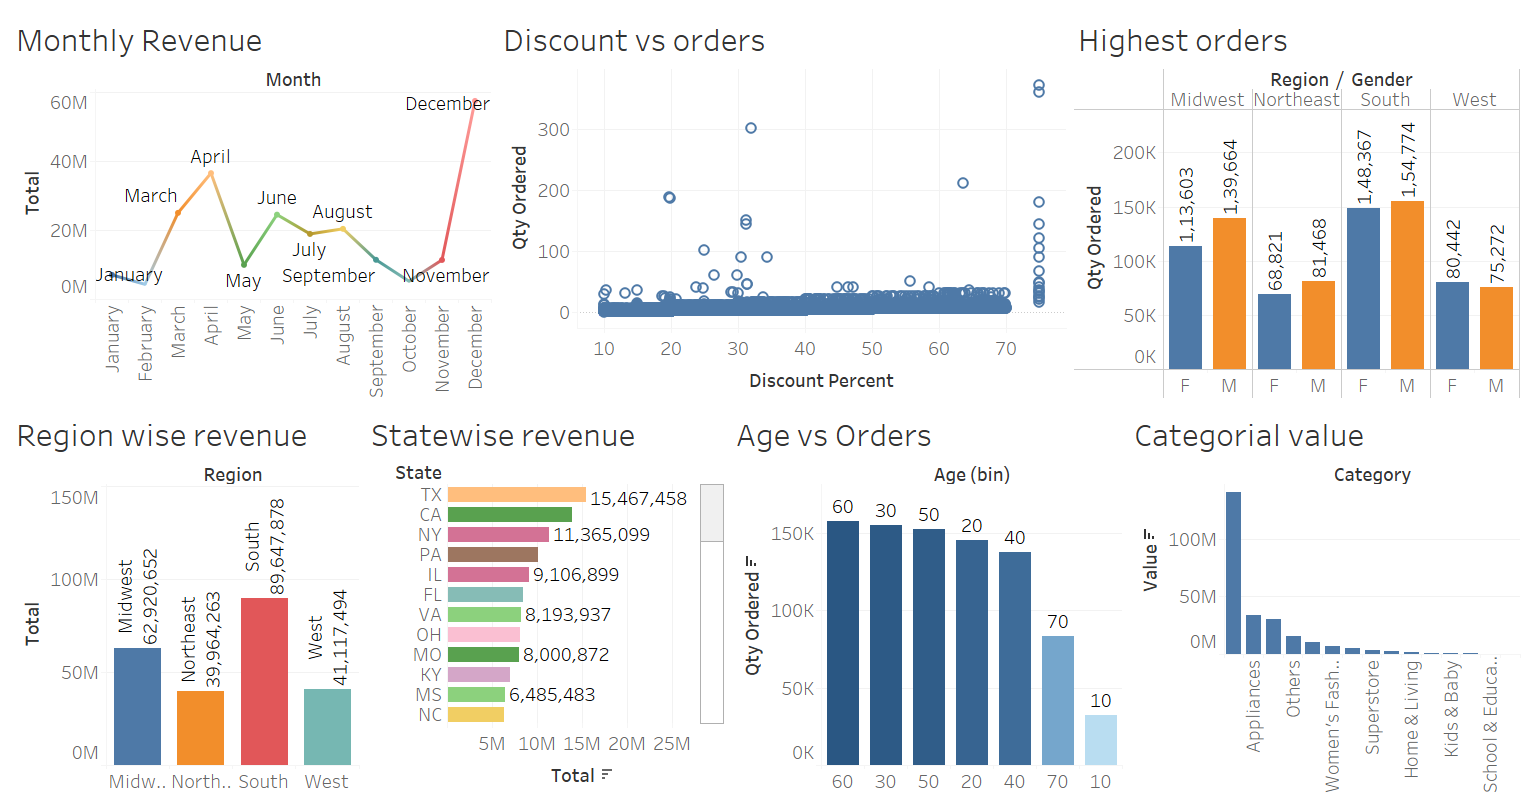

Layout of this report page (visuals, bound fields, positions):
{"tool":"tableau","page":{"name":"Dashboard 1","canvas":[1532,806],"ordinal":0},"visuals":[{"type":"worksheet","title":"Monthly Revenue","mark":"Automatic","rows":["total"],"cols":["month"],"box":[8,8,487,395]},{"type":"worksheet","title":"Discount vs orders","mark":"Automatic","rows":["qty_ordered"],"cols":["Discount_Percent"],"box":[495,8,575,395]},{"type":"worksheet","title":"Highest orders","mark":"Automatic","rows":["qty_ordered"],"cols":["Region","Gender"],"box":[1070,8,454,395]},{"type":"worksheet","title":"Region wise revenue","mark":"Automatic","rows":["total"],"cols":["Region"],"box":[8,403,355,395]},{"type":"worksheet","title":"Statewise revenue","mark":"Automatic","rows":["State"],"cols":["total"],"box":[363,403,365.5,395]},{"type":"worksheet","title":"Age vs Orders","mark":"Automatic","rows":["qty_ordered"],"cols":["Age (bin)"],"box":[728.5,403,397.8,395]},{"type":"worksheet","title":"Categorial value","mark":"Automatic","rows":["value"],"cols":["category"],"box":[1126.2,403,397.8,395]}]}

Visuals, with their boxes in screenshot pixels (x1, y1, x2, y2), scaled from the page's 1532x806 canvas onto the 1532x806 screenshot:
"Monthly Revenue" worksheet: (x1=8, y1=8, x2=495, y2=403)
"Discount vs orders" worksheet: (x1=495, y1=8, x2=1070, y2=403)
"Highest orders" worksheet: (x1=1070, y1=8, x2=1524, y2=403)
"Region wise revenue" worksheet: (x1=8, y1=403, x2=363, y2=798)
"Statewise revenue" worksheet: (x1=363, y1=403, x2=728, y2=798)
"Age vs Orders" worksheet: (x1=728, y1=403, x2=1126, y2=798)
"Categorial value" worksheet: (x1=1126, y1=403, x2=1524, y2=798)
